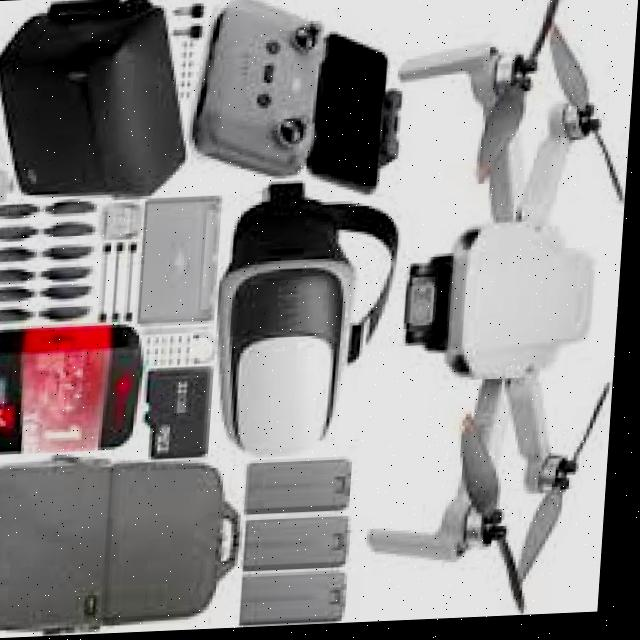drone: (364, 0, 640, 626)
